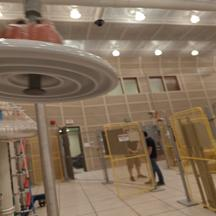insulator: (0, 1, 123, 111)
